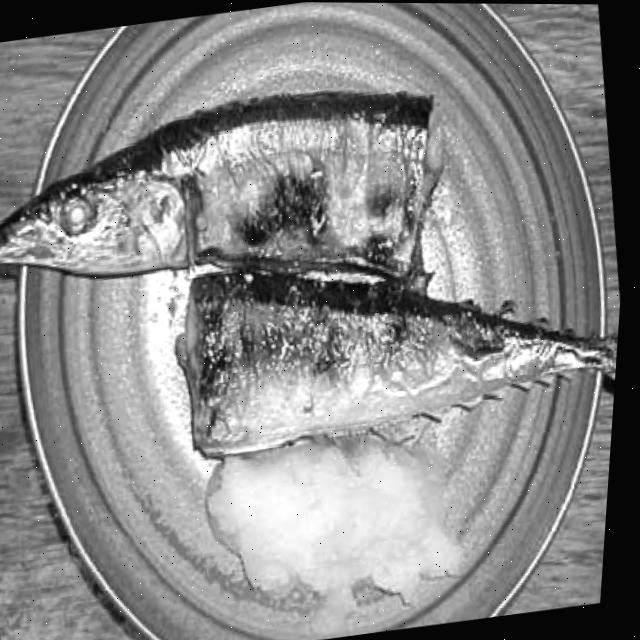熟制海鲜: (0, 62, 637, 514)
